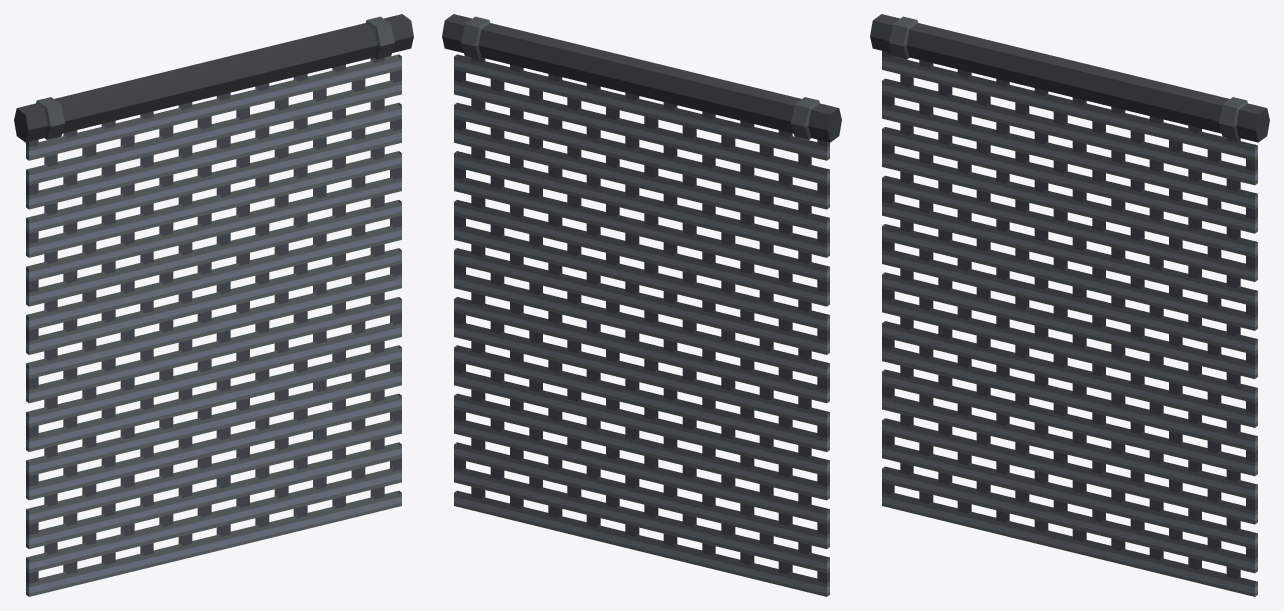
Rendered from SM_Bld_Wall_Shutter_01.fbx.
The picture shows the model from 3 angles, left to right: view 1: azimuth 30°, elevation 25°; view 2: azimuth 150°, elevation 25°; view 3: azimuth 330°, elevation 25°; orthographic projection.
Visible parts, largest first — view 1: SM_Bld_Wall_Shutter_01_Bars, SM_Bld_Wall_Shutter_01; view 2: SM_Bld_Wall_Shutter_01_Bars, SM_Bld_Wall_Shutter_01; view 3: SM_Bld_Wall_Shutter_01_Bars, SM_Bld_Wall_Shutter_01.
Part boxes in pixels (x1,y1,x2,y2): SM_Bld_Wall_Shutter_01_Bars: [26, 54, 401, 596]; SM_Bld_Wall_Shutter_01: [14, 14, 413, 142]; SM_Bld_Wall_Shutter_01_Bars: [454, 54, 829, 596]; SM_Bld_Wall_Shutter_01: [442, 14, 841, 142]; SM_Bld_Wall_Shutter_01_Bars: [882, 51, 1257, 596]; SM_Bld_Wall_Shutter_01: [870, 14, 1269, 142].
Bounding box in the file's own units: 250 × 302 × 20.13.
